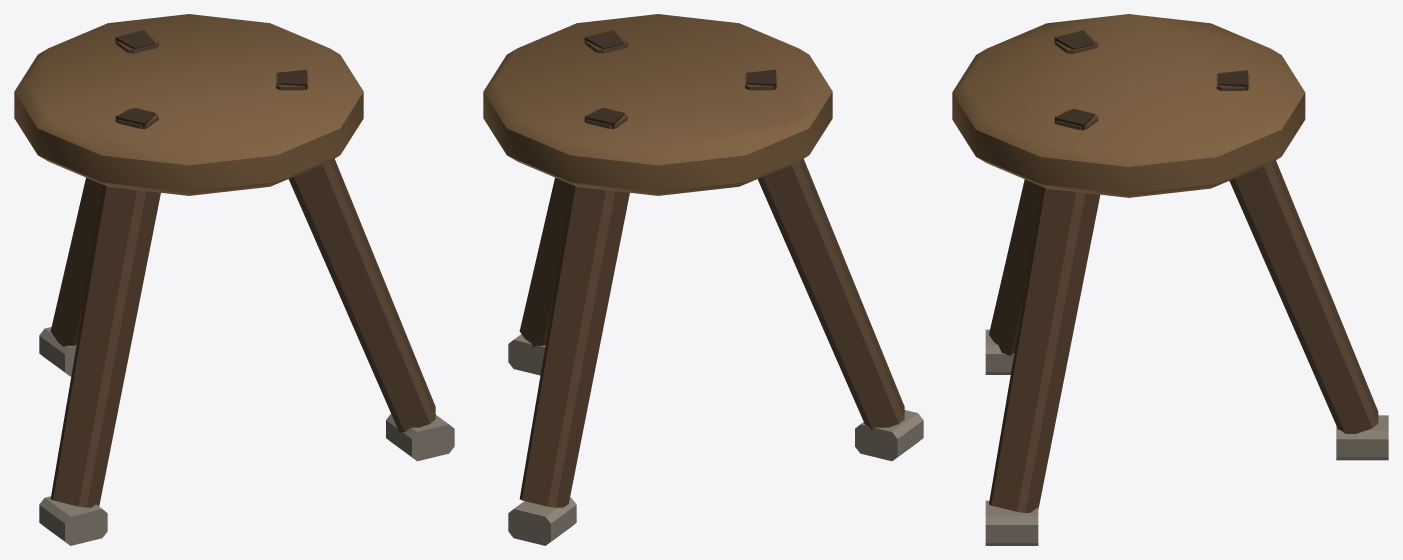
The model's file is SM_LPD_Furn_StoolRound_01.fbx.
3 views of the same model, side by side, from view 1: azimuth 30°, elevation 25°; view 2: azimuth 150°, elevation 25°; view 3: azimuth 270°, elevation 25° (orthographic).
Parts seen in each view (by area): view 1: SM_LPD_Furn_StoolRound_01; view 2: SM_LPD_Furn_StoolRound_01; view 3: SM_LPD_Furn_StoolRound_01.
Boxes of the visible parts, x1,y1,x2,y2 form: SM_LPD_Furn_StoolRound_01: (14, 14, 454, 545); SM_LPD_Furn_StoolRound_01: (483, 14, 923, 545); SM_LPD_Furn_StoolRound_01: (952, 14, 1388, 545).
Bounding box in the file's own units: 0.502 × 0.4573 × 0.4821.
